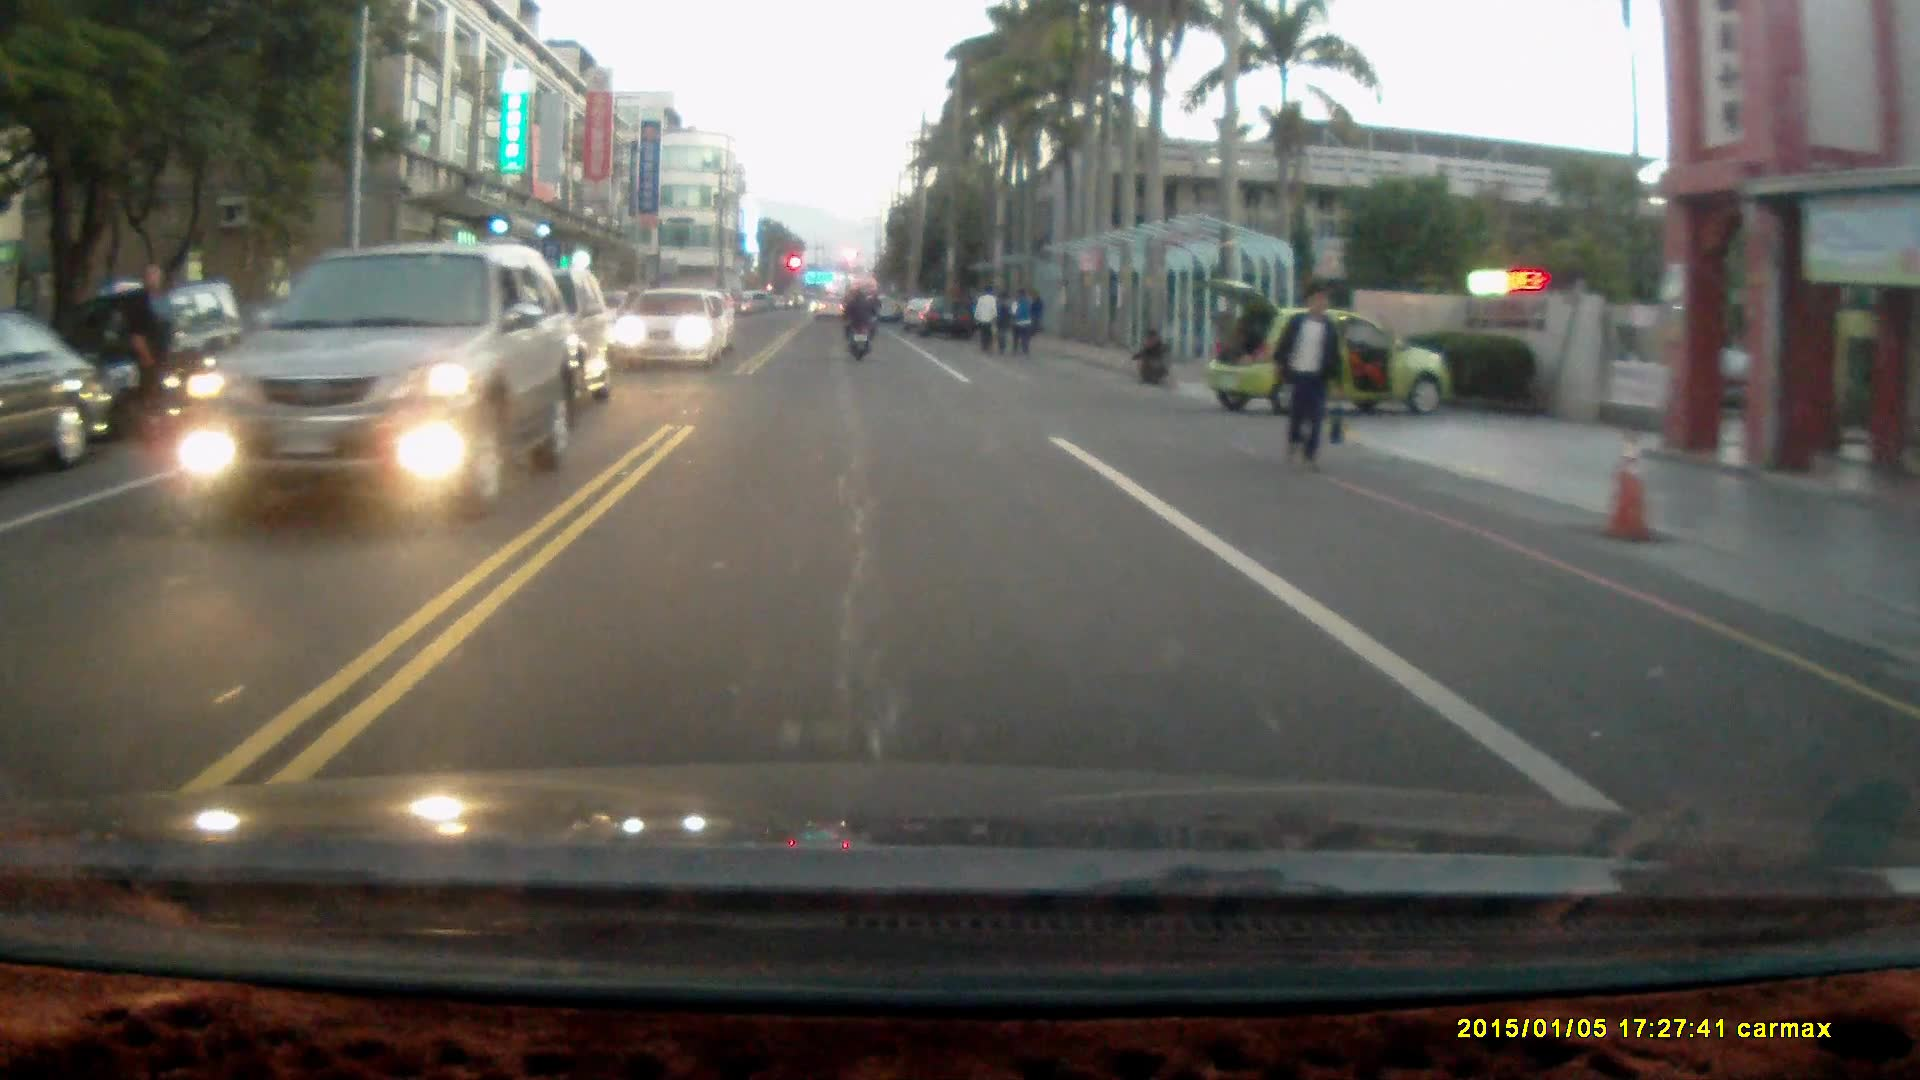pedestrian: (1271, 280, 1345, 481), (1132, 322, 1168, 383), (1007, 282, 1033, 362), (977, 287, 1001, 361), (993, 286, 1015, 354)
rider: (839, 283, 878, 361)
vehicle: (180, 240, 575, 517), (1203, 272, 1456, 417), (408, 261, 620, 418), (59, 275, 255, 426), (618, 285, 730, 368), (922, 294, 977, 339)
